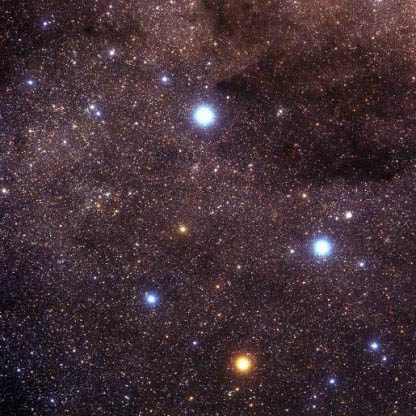Southern Cross: (297, 228, 338, 269), (132, 280, 163, 313), (187, 101, 219, 130)
